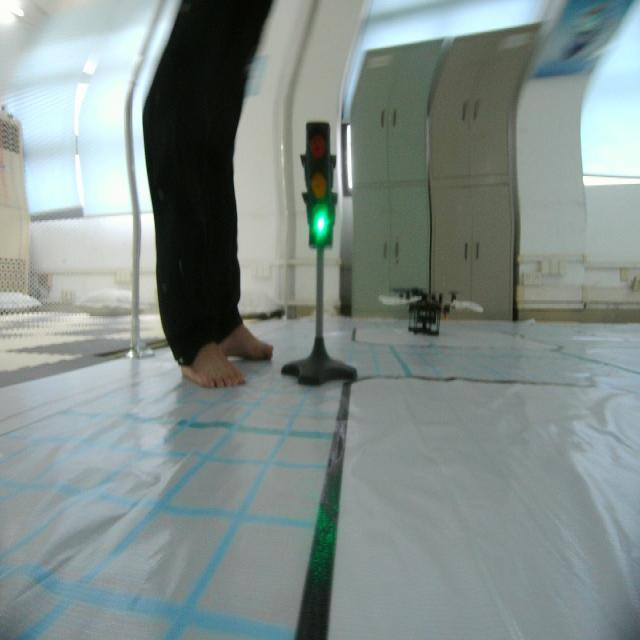green: (302, 116, 341, 253)
